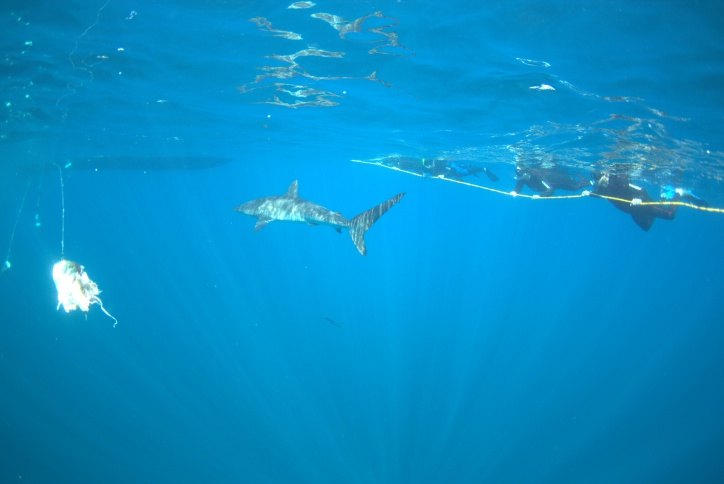Sedoso: (217, 179, 419, 261)
